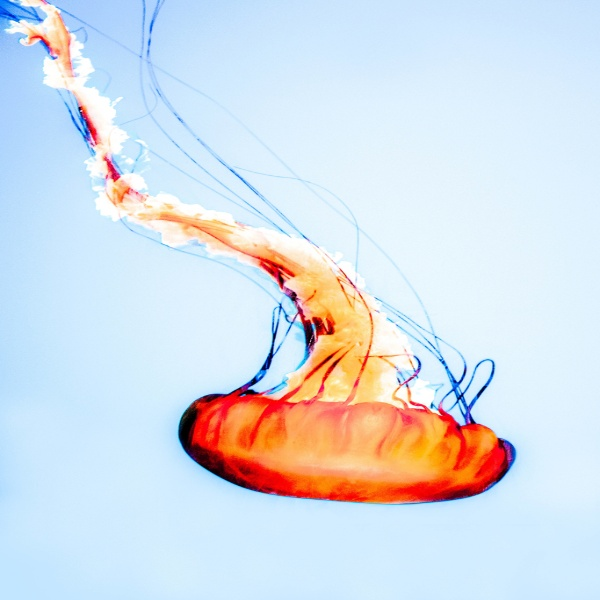Jellyfish: (0, 0, 518, 506)
